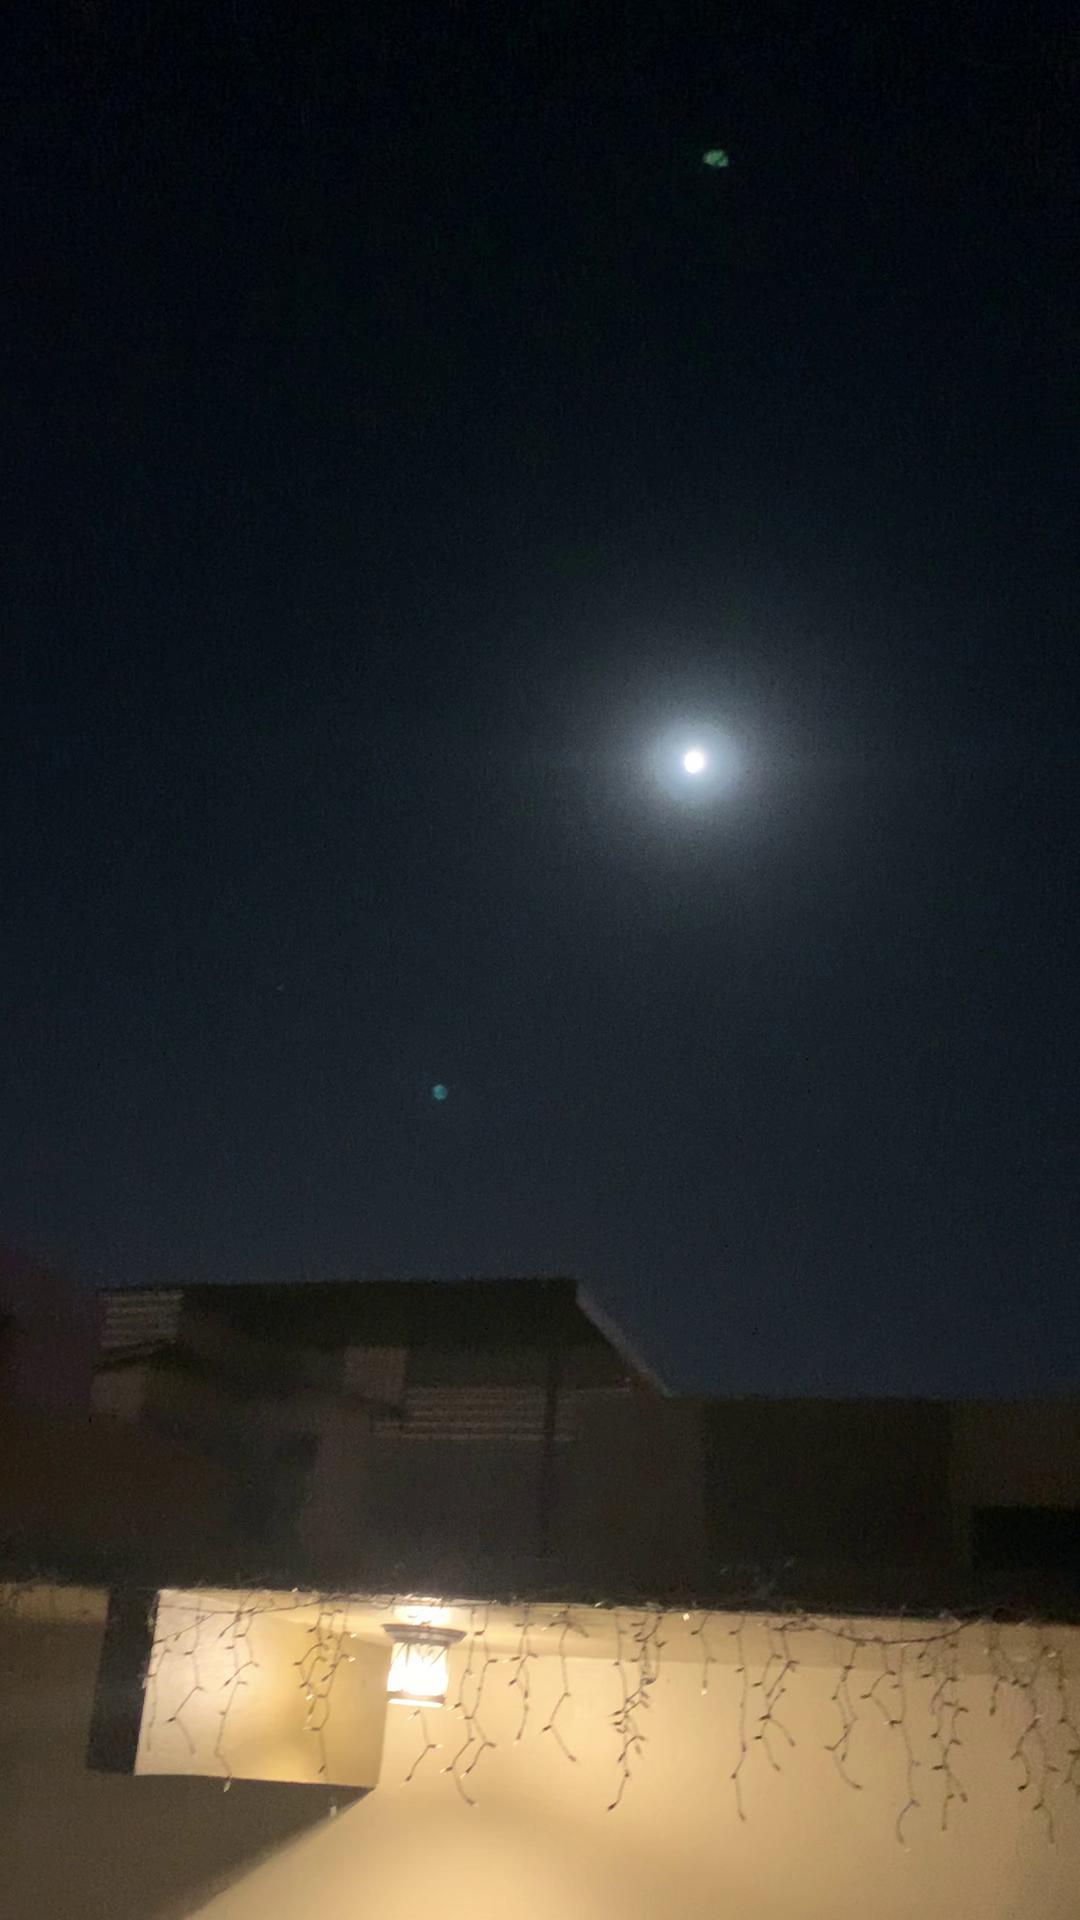moon: (651, 720, 738, 799)
